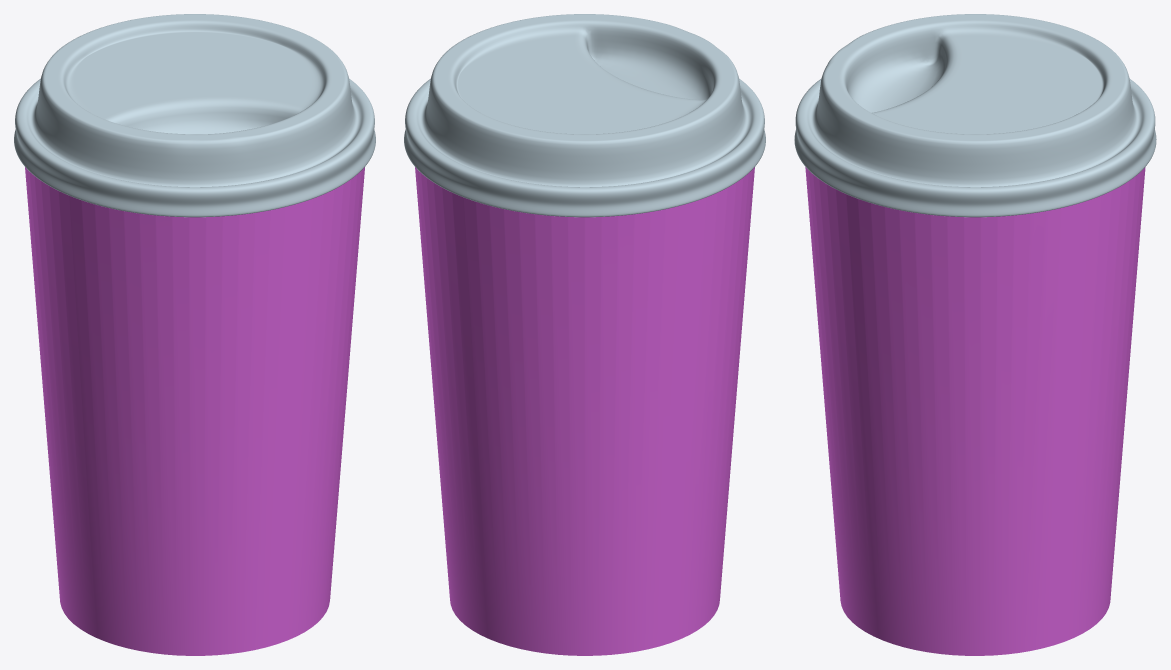
The picture shows the model from 3 angles, left to right: view 1: azimuth 30°, elevation 25°; view 2: azimuth 150°, elevation 25°; view 3: azimuth 270°, elevation 25°; orthographic projection.
Parts seen in each view (by area): view 1: Coffee Coup_0, Lid_0; view 2: Coffee Coup_0, Lid_0; view 3: Coffee Coup_0, Lid_0.
Part boxes in pixels (x1,y1,x2,y2): Coffee Coup_0: [25, 167, 364, 655]; Lid_0: [14, 14, 375, 217]; Coffee Coup_0: [415, 167, 754, 655]; Lid_0: [404, 14, 765, 217]; Coffee Coup_0: [805, 167, 1145, 655]; Lid_0: [794, 14, 1156, 217].
Bounding box in the file's own units: 0.6295 × 1 × 0.6295.
